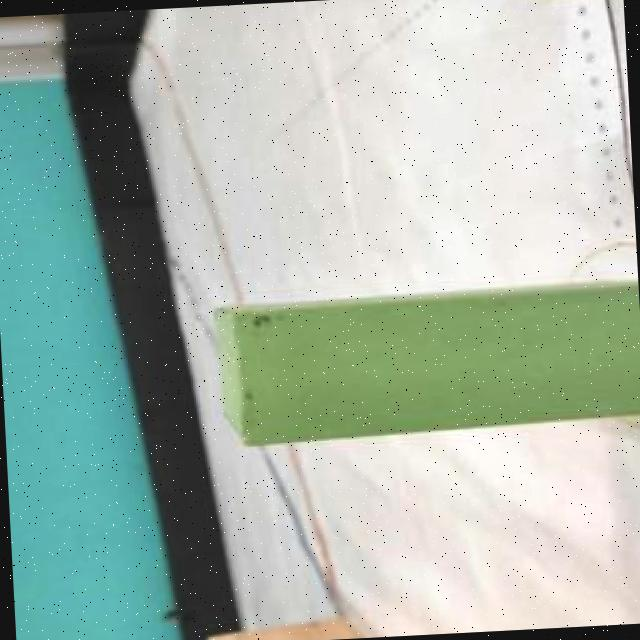greenbox: (205, 276, 640, 447)
